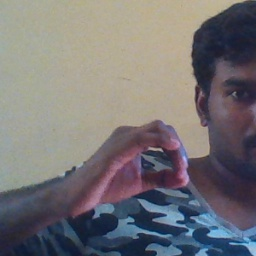O: (79, 116, 197, 212)
